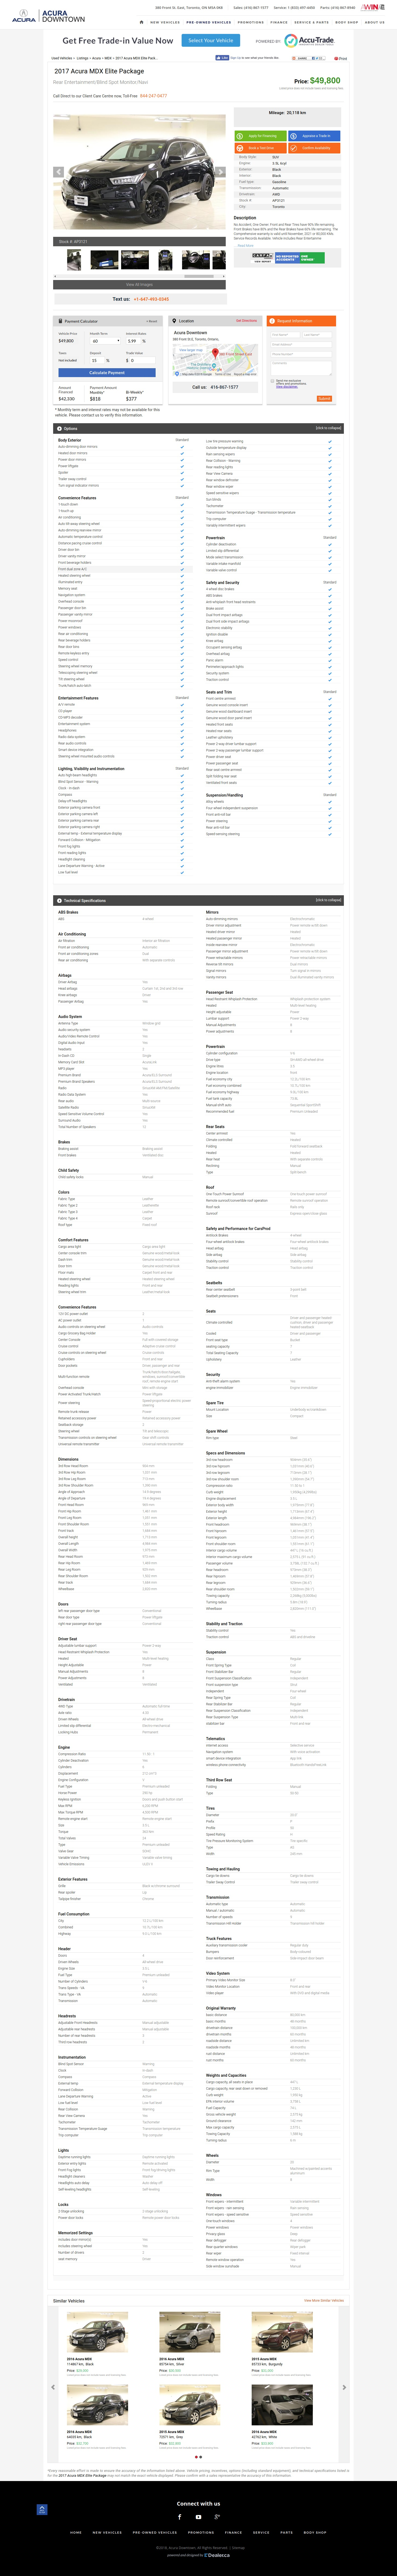car: (215, 166, 226, 177)
